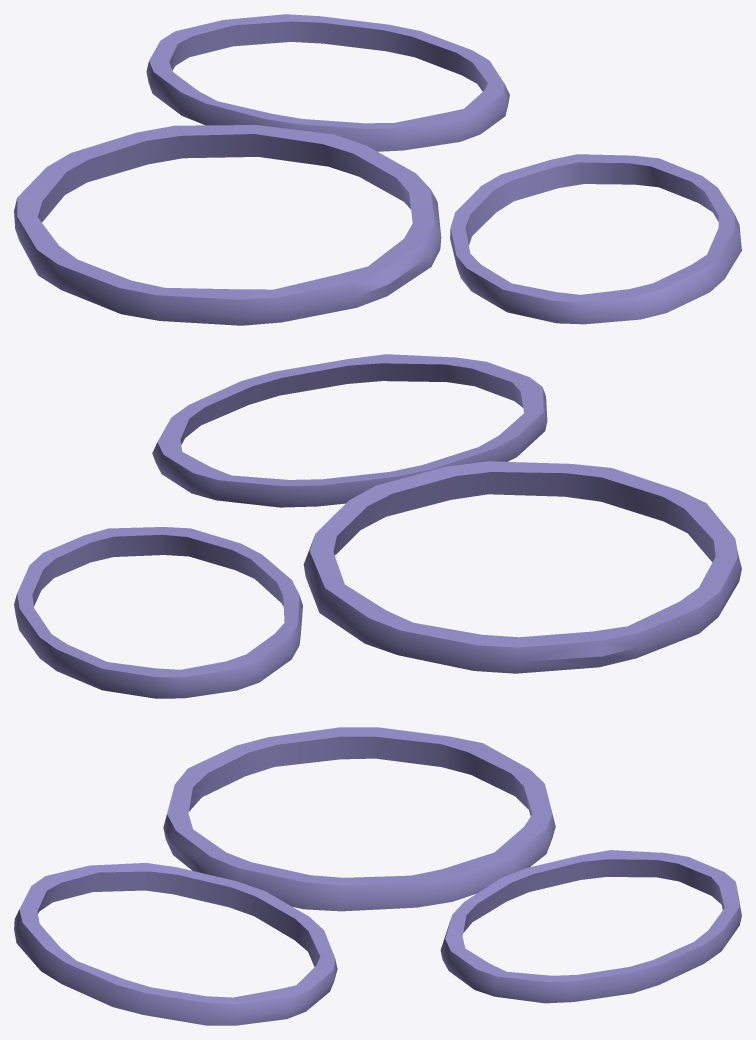
File: oinon.fbx
3 renders of one model, top to bottom at view 1: azimuth 30°, elevation 25°; view 2: azimuth 150°, elevation 25°; view 3: azimuth 270°, elevation 25°, orthographic. The views are drawn at different scales.
Visible parts, largest first — view 1: Cylinder.003; view 2: Cylinder.003; view 3: Cylinder.003.
Part boxes in pixels (left/top/right/bottom): Cylinder.003: left=14, top=14, right=741, bottom=325; Cylinder.003: left=14, top=354, right=741, bottom=698; Cylinder.003: left=14, top=727, right=741, bottom=1025.
Bounding box in the file's own units: 59.47 × 3.82 × 68.53.
